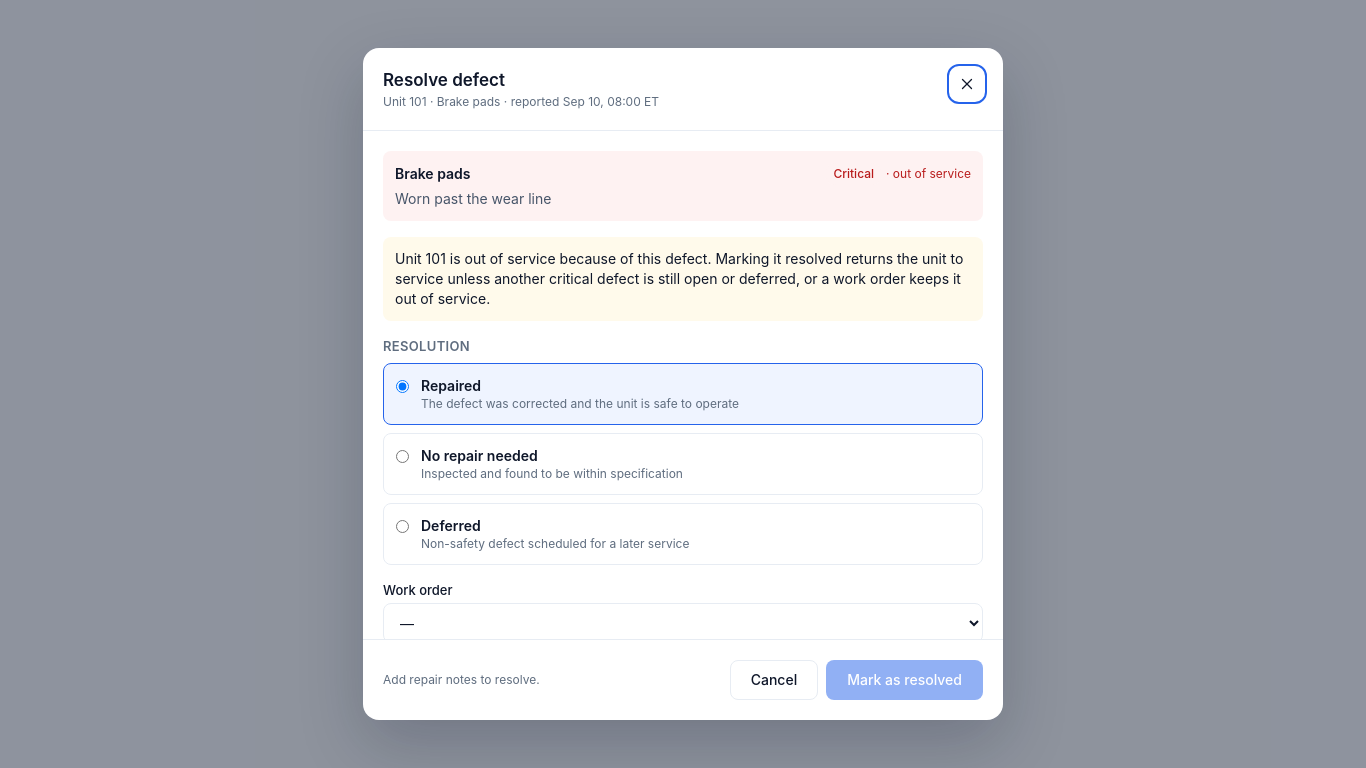
Scenario: ResolveDefectModal — 11.17 › QA CODE-008 — on an out-of-service defect, Deferred says the unit stays out of service until repaired
Expected: the text "resolved returns the unit to service unless another critical defect is still open or deferred" is shown, [395,250,963,307]
Click the radio button labelled "Deferred Non-safety defect scheduled for a later service" at (402, 526), box [396,520,409,533]
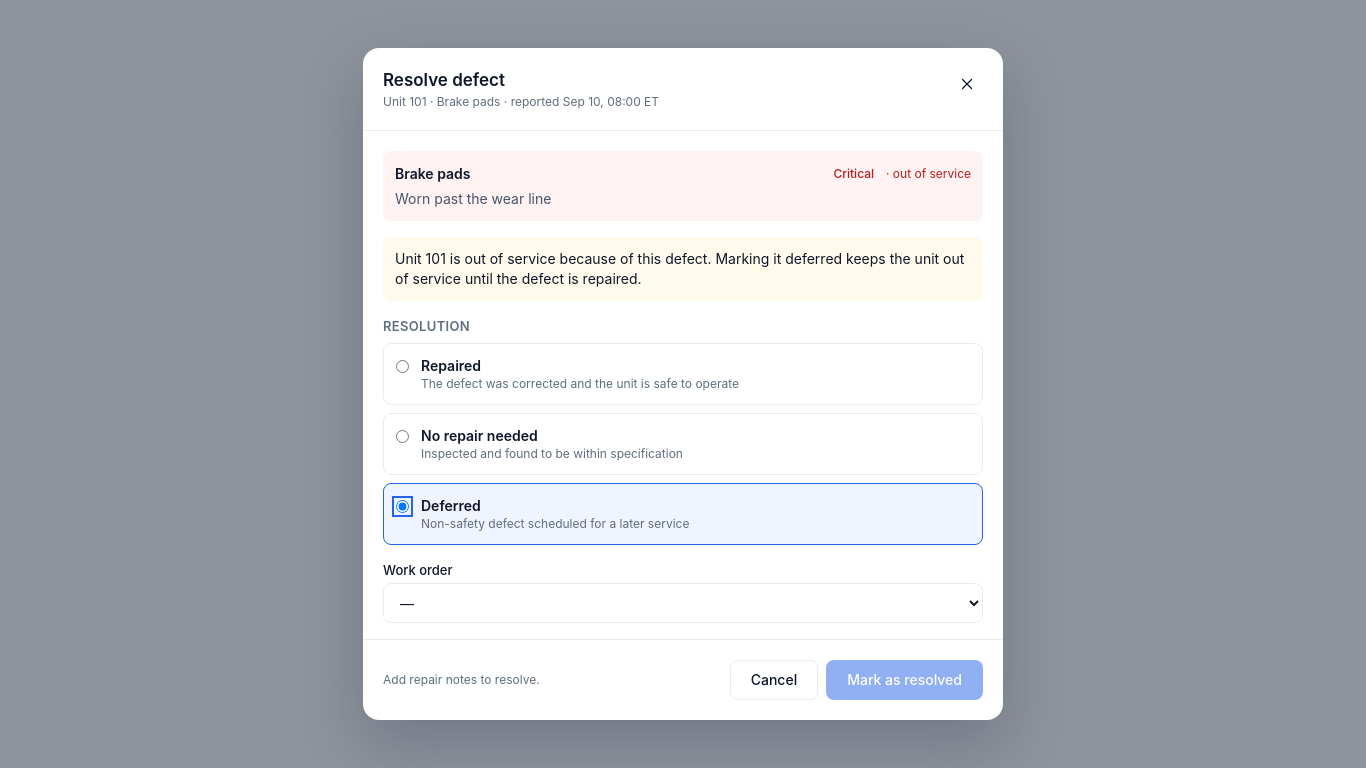
Result: the text "deferred keeps the unit out of service until the defect is repaired" is shown at [395,250,964,287]
